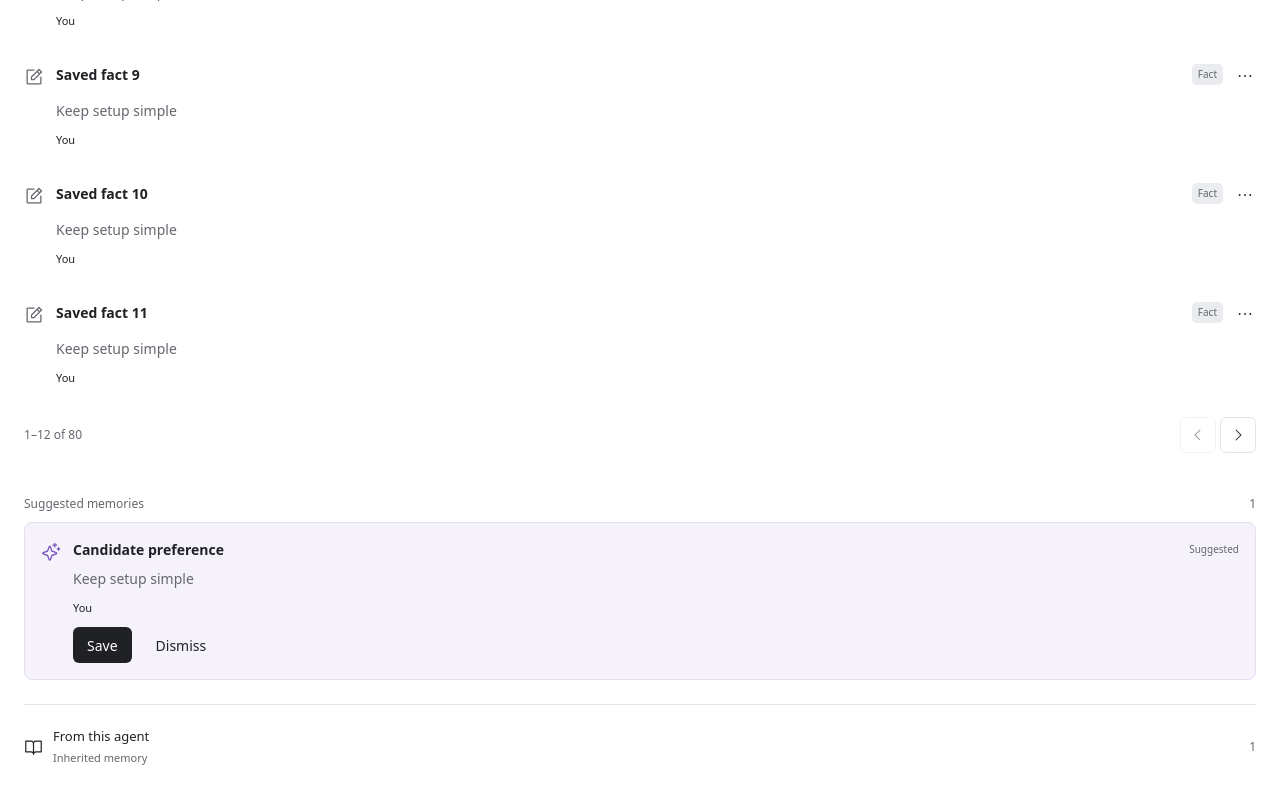
Test: conversation memories › pages saved memories independently from suggestions and reveals inherited search matches
(page scrolled)
Expected: the text "Candidate preference" is shown, [73, 540, 224, 559]
Expected: the text "Agent policy" is not shown
Click the button named "Next this chat memory page" at (1238, 435), box [1220, 417, 1256, 453]
(page scrolled)
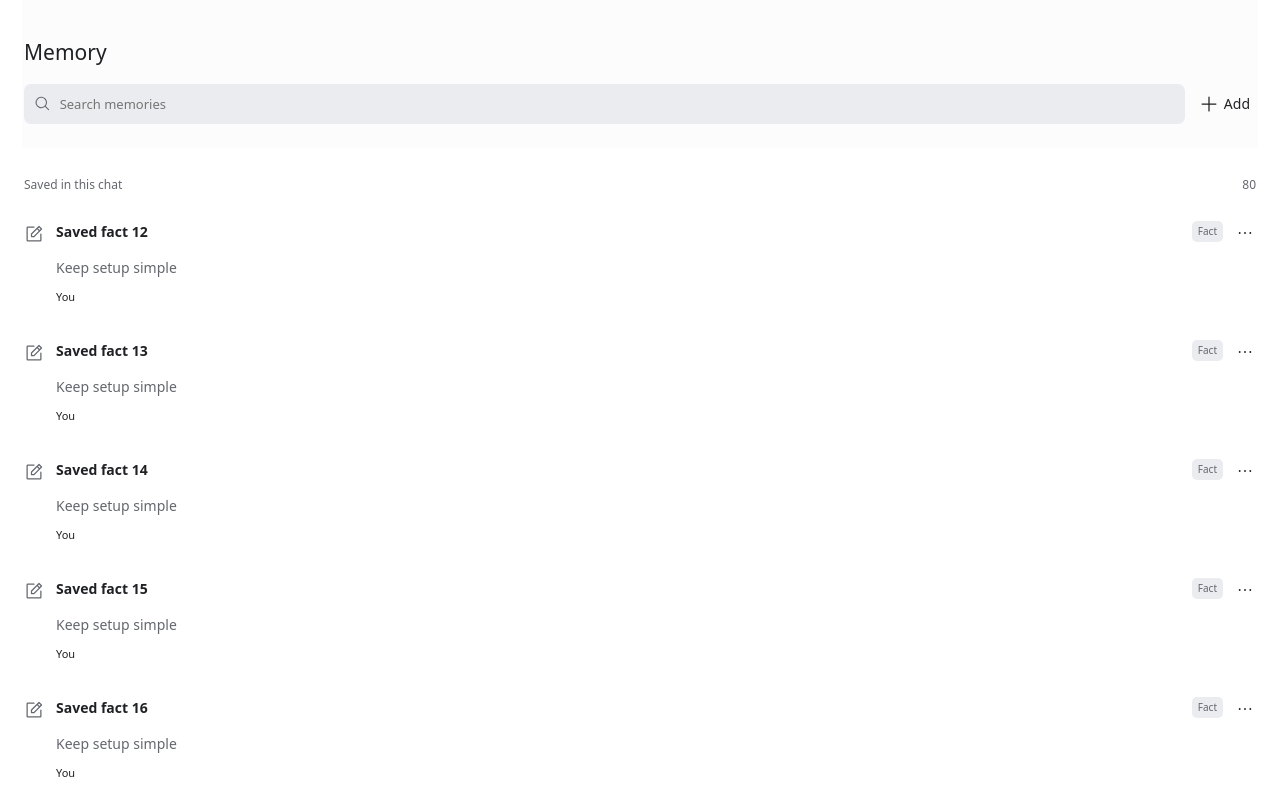
Type "Agent policy" into the search field at (617, 104), box [60, 95, 1175, 113]
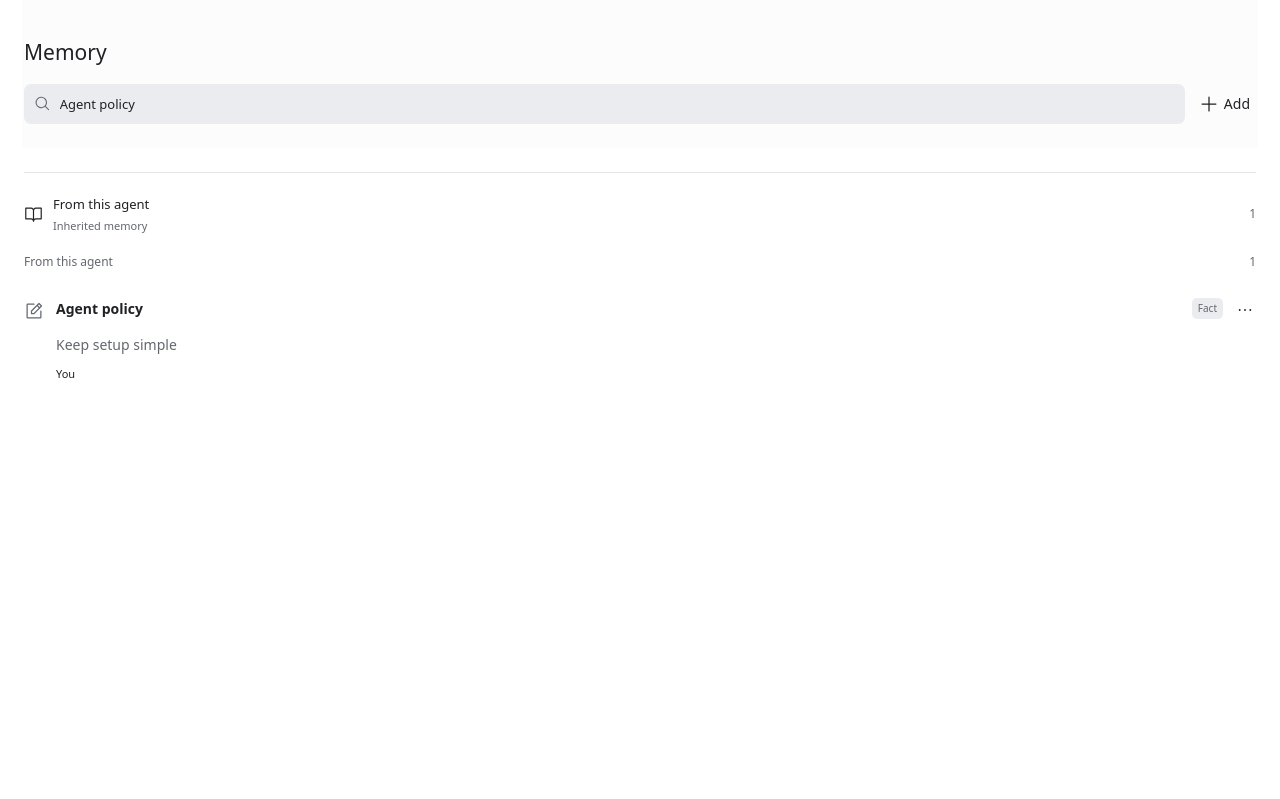
Expected: the text "Agent policy" is shown, [56, 299, 143, 318]
